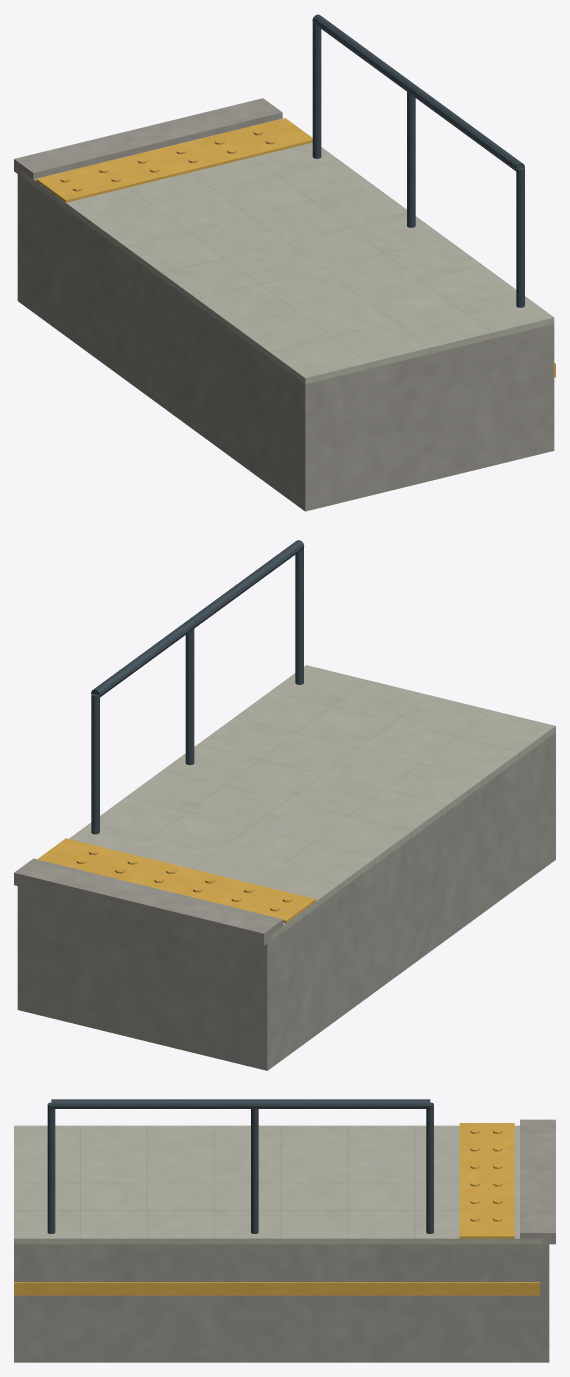
Rendered from PZ_GCR_09_Platform_EndCap_2x4m.glb.
The picture shows the model from 3 angles, top to bottom: view 1: azimuth 30°, elevation 25°; view 2: azimuth 150°, elevation 25°; view 3: azimuth 270°, elevation 25°; orthographic projection. The views are drawn at different scales.
Parts seen in each view (by area): view 1: Platform_EndCap_2x4m__Platform_End_Base, Platform_EndCap_2x4m__Platform_End_Top, Platform_EndCap_2x4m__Platform_End_Tactile_Strip, Platform_EndCap_2x4m__Platform_End_Coping, Platform_EndCap_2x4m__Endcap_Rail_Vertical, Platform_EndCap_2x4m__Endcap_Rail_Handrail, Platform_EndCap_2x4m__EndCap_Tactile_Studs; view 2: Platform_EndCap_2x4m__Platform_End_Base, Platform_EndCap_2x4m__Platform_End_Top, Platform_EndCap_2x4m__Platform_End_Coping, Platform_EndCap_2x4m__Platform_End_Tactile_Strip, Platform_EndCap_2x4m__Endcap_Rail_Vertical, Platform_EndCap_2x4m__Endcap_Rail_Handrail, Platform_EndCap_2x4m__EndCap_Tactile_Studs; view 3: Platform_EndCap_2x4m__Platform_End_Base, Platform_EndCap_2x4m__Platform_End_Top, Platform_EndCap_2x4m__Endcap_EndFace_SafetyPaint, Platform_EndCap_2x4m__Platform_End_Tactile_Strip, Platform_EndCap_2x4m__Platform_End_Coping, Platform_EndCap_2x4m__Endcap_Rail_Handrail, Platform_EndCap_2x4m__Endcap_Rail_Vertical, Platform_EndCap_2x4m__EndCap_Tactile_Studs.
Part boxes in pixels (<box>): Platform_EndCap_2x4m__Platform_End_Base: <box>17,174,554,511</box>; Platform_EndCap_2x4m__Platform_End_Top: <box>21,118,554,384</box>; Platform_EndCap_2x4m__Platform_End_Tactile_Strip: <box>36,118,312,202</box>; Platform_EndCap_2x4m__Platform_End_Coping: <box>14,98,282,179</box>; Platform_EndCap_2x4m__Endcap_Rail_Vertical: <box>312,22,524,307</box>; Platform_EndCap_2x4m__Endcap_Rail_Handrail: <box>312,14,524,171</box>; Platform_EndCap_2x4m__EndCap_Tactile_Studs: <box>60,129,275,191</box>; Platform_EndCap_2x4m__Platform_End_Base: <box>17,732,555,1070</box>; Platform_EndCap_2x4m__Platform_End_Top: <box>69,665,555,940</box>; Platform_EndCap_2x4m__Platform_End_Coping: <box>14,858,283,945</box>; Platform_EndCap_2x4m__Platform_End_Tactile_Strip: <box>37,838,315,923</box>; Platform_EndCap_2x4m__Endcap_Rail_Vertical: <box>91,547,303,834</box>; Platform_EndCap_2x4m__Endcap_Rail_Handrail: <box>91,540,304,697</box>; Platform_EndCap_2x4m__EndCap_Tactile_Studs: <box>76,849,292,911</box>; Platform_EndCap_2x4m__Platform_End_Base: <box>14,1244,549,1362</box>; Platform_EndCap_2x4m__Platform_End_Top: <box>14,1125,542,1244</box>; Platform_EndCap_2x4m__Endcap_EndFace_SafetyPaint: <box>14,1282,539,1295</box>; Platform_EndCap_2x4m__Platform_End_Tactile_Strip: <box>459,1123,514,1238</box>; Platform_EndCap_2x4m__Platform_End_Coping: <box>520,1119,555,1244</box>; Platform_EndCap_2x4m__Endcap_Rail_Handrail: <box>51,1099,430,1108</box>; Platform_EndCap_2x4m__Endcap_Rail_Vertical: <box>47,1102,433,1233</box>; Platform_EndCap_2x4m__EndCap_Tactile_Studs: <box>470,1128,502,1221</box>.
Size of the model in its own units: 2.01 by 2.12 by 4.05.
4 materials, 4 textured.
